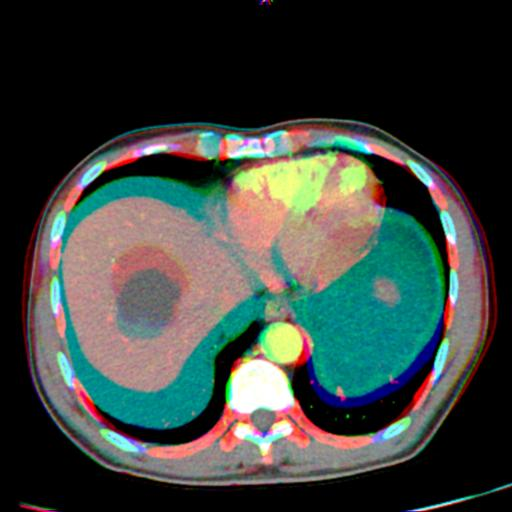Cyst: (117, 268, 180, 336)
